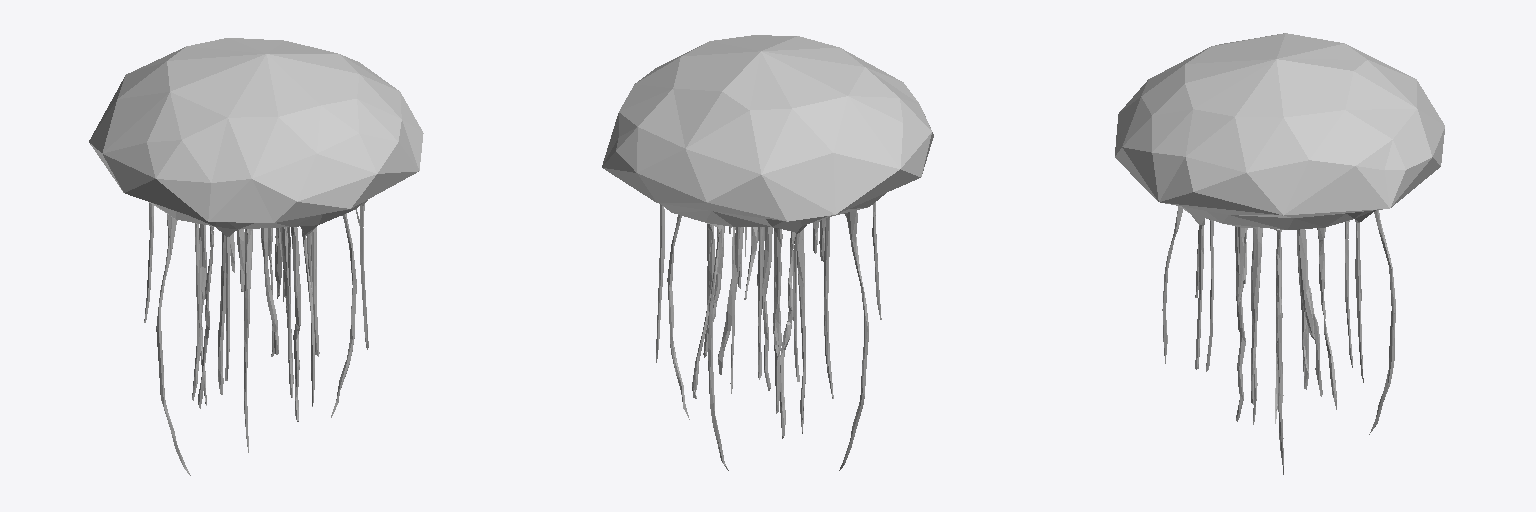
File: player.obj
The picture shows the model from 3 angles: view 1: azimuth 30°, elevation 25°; view 2: azimuth 150°, elevation 25°; view 3: azimuth 270°, elevation 25°; orthographic projection.
Parts seen in each view (by area): view 1: Jellyfish_Low_Poly; view 2: Jellyfish_Low_Poly; view 3: Jellyfish_Low_Poly.
Boxes of the visible parts, box(x1,y1,x2,y2) form: Jellyfish_Low_Poly: box(89, 38, 423, 475); Jellyfish_Low_Poly: box(602, 35, 933, 470); Jellyfish_Low_Poly: box(1115, 33, 1444, 474).
Size of the model in its own units: 2.76 by 3.71 by 2.76.